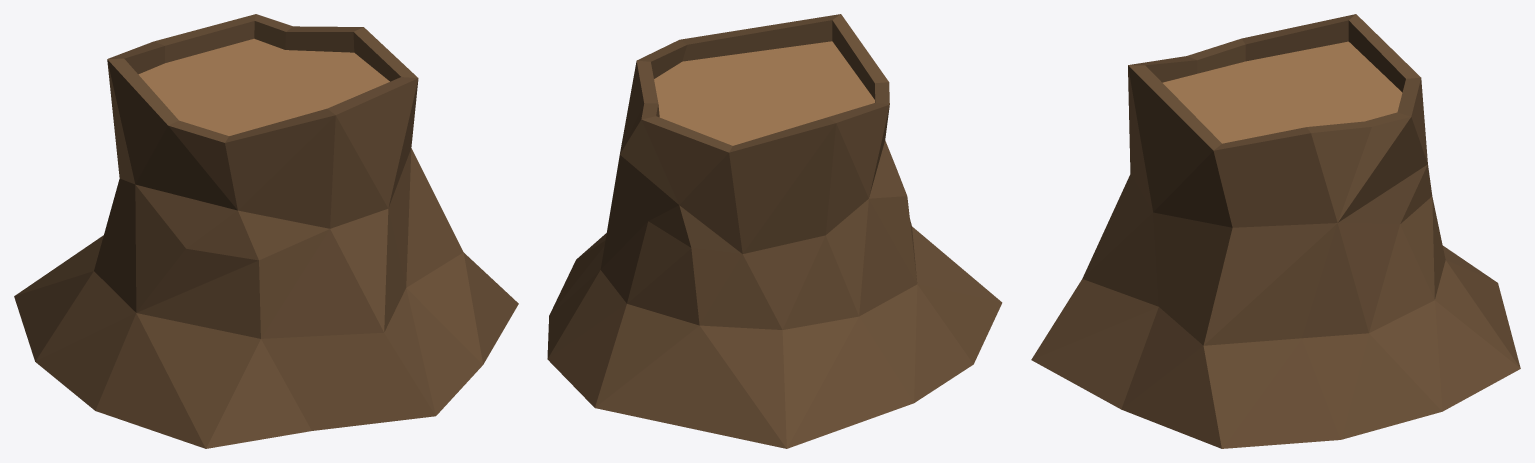
File: stump_2.glb
3 views of the same model, side by side, from view 1: azimuth 30°, elevation 25°; view 2: azimuth 150°, elevation 25°; view 3: azimuth 270°, elevation 25° (orthographic). The views are drawn at different scales.
Visible parts, largest first — view 1: Cylinder.003; view 2: Cylinder.003; view 3: Cylinder.003.
Boxes of the visible parts, left/top/right/bottom form: Cylinder.003: left=14, top=14, right=518, bottom=448; Cylinder.003: left=547, top=14, right=1002, bottom=448; Cylinder.003: left=1031, top=14, right=1520, bottom=448.
Bounding box in the file's own units: 1.01 × 0.6607 × 1.04.
